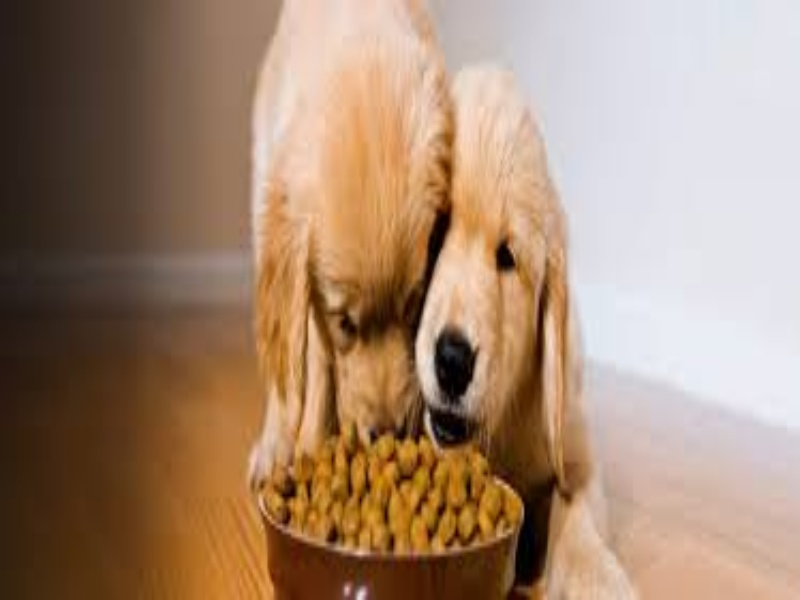dog: (420, 65, 609, 592), (239, 6, 439, 480)
